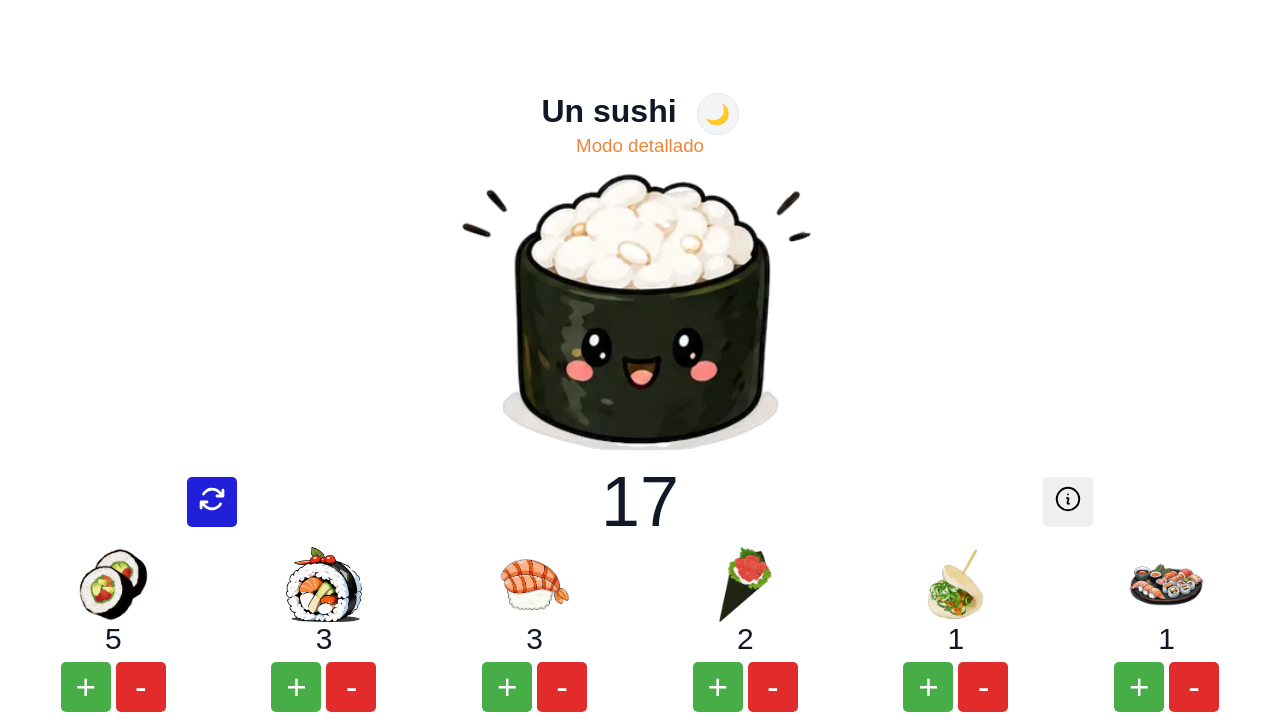
SushiDetailedCounter › should decrement counter and maki when we pulse quit
(page scrolled)
expect the text "5" is shown: met, box [105,622,122,656]
Step 1. Click the 1st button "-" → (141, 687), box [116,662,166,712]
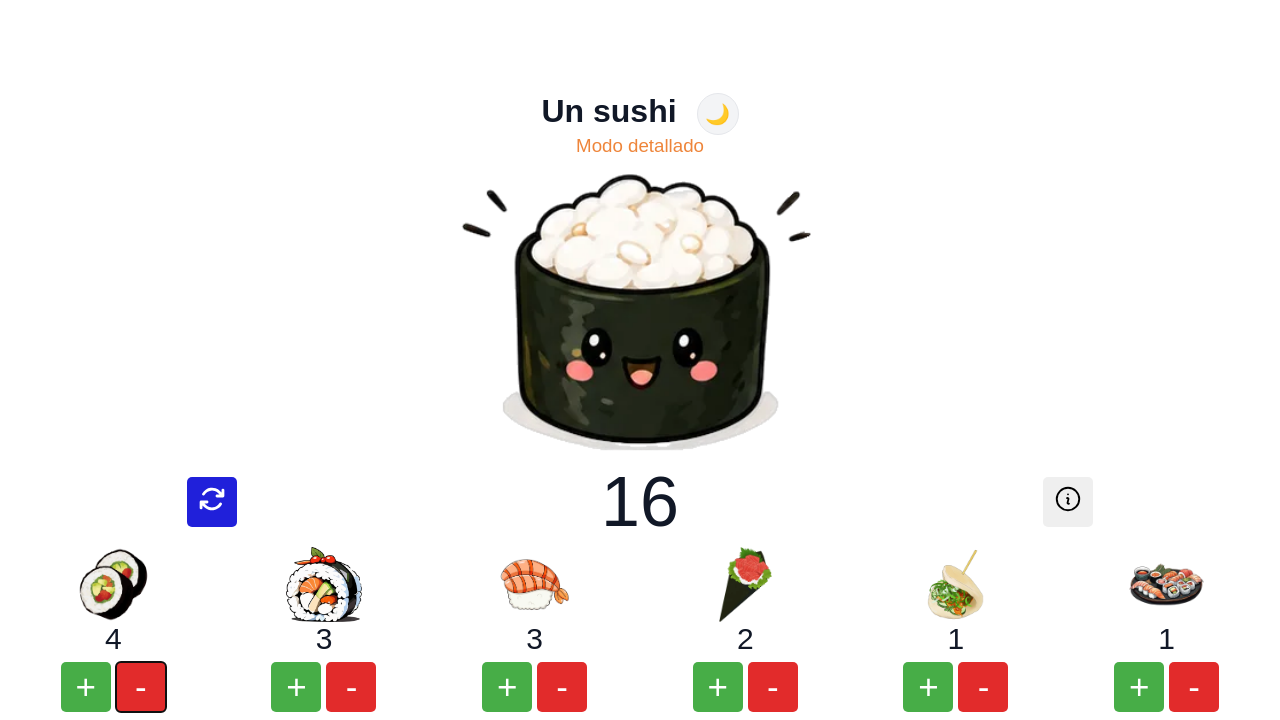
expect the text "16" is shown: met, box [601,462,679,542]
expect the text with id "detailed-counter" reads "16": met, box [601,463,679,541]
Step 2. Click the 1st button "-" → (141, 687), box [116,662,166,712]
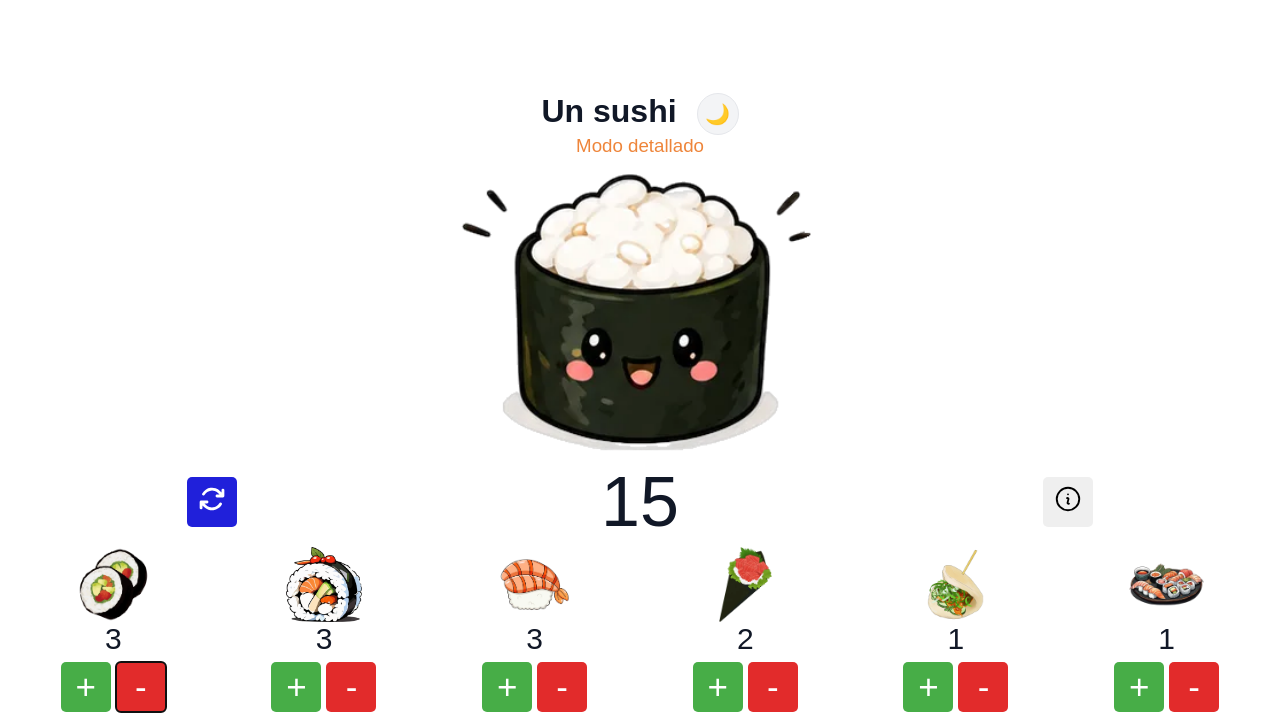
Step 3. Click the 1st button "-" → (141, 687), box [116,662,166,712]
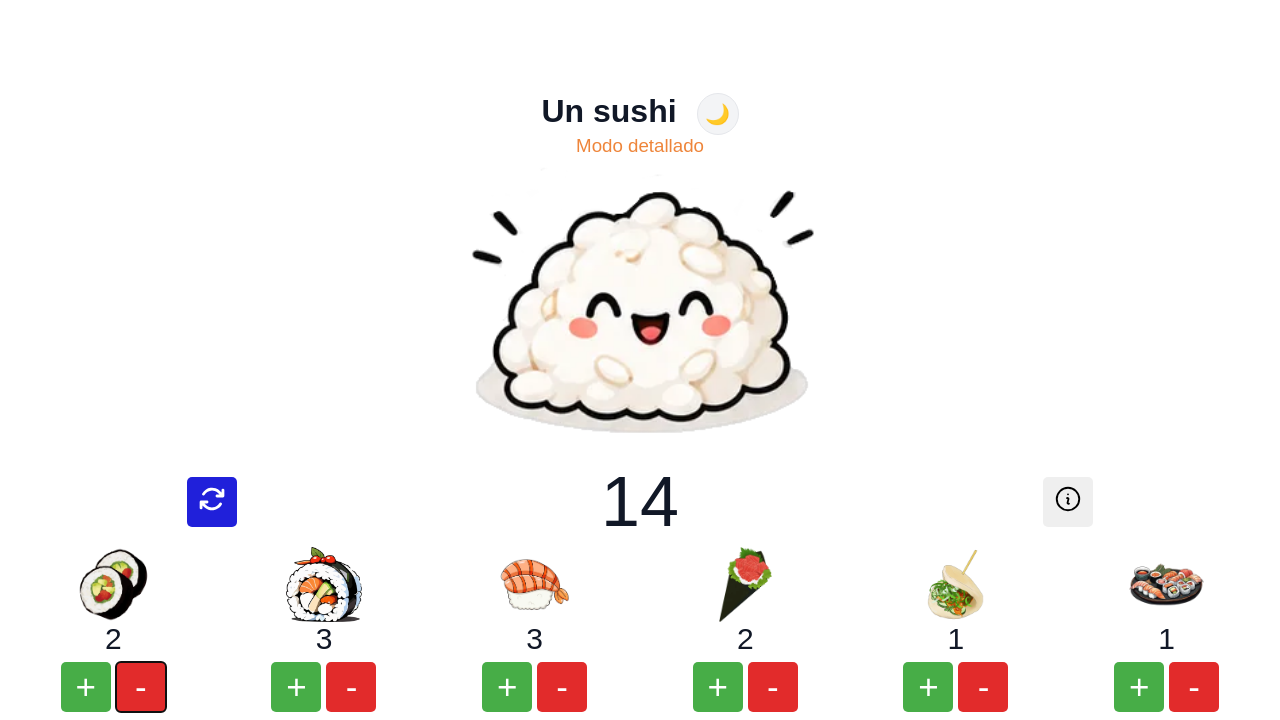
Step 4. Click the 1st button "-" → (141, 687), box [116,662,166,712]
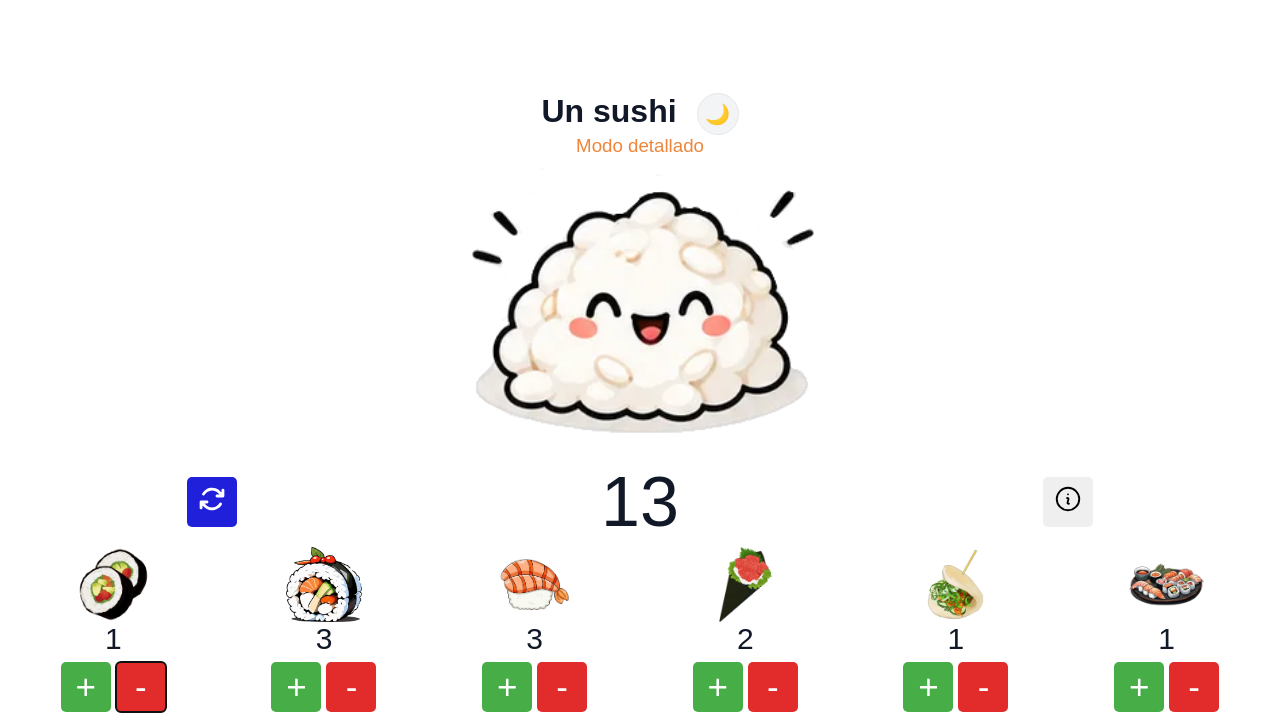
expect the text "13" is shown: met, box [601,462,679,542]
expect the text with id "detailed-counter" reads "13": met, box [601,463,679,541]
